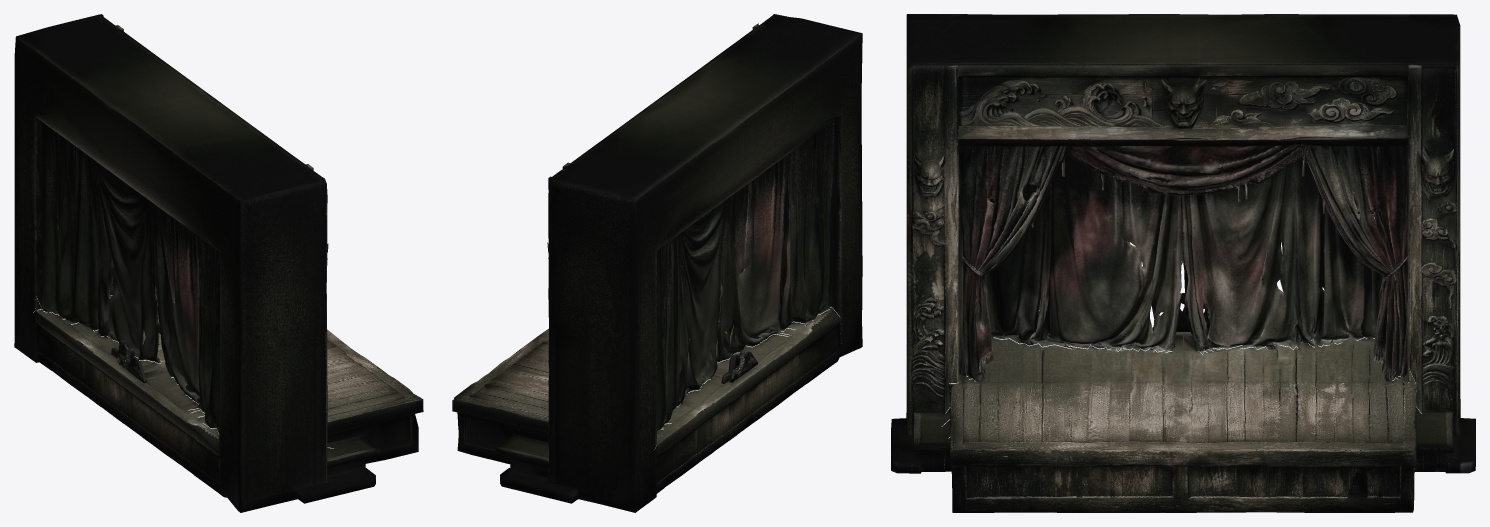
Rendered from theater-stage.glb.
3 renders of one model, left to right at view 1: azimuth 30°, elevation 25°; view 2: azimuth 150°, elevation 25°; view 3: azimuth 270°, elevation 25°, orthographic. The views are drawn at different scales.
Size of the model in its own units: 0.4841 by 0.7208 by 1.
Materials: 14 (14 with a texture image).
